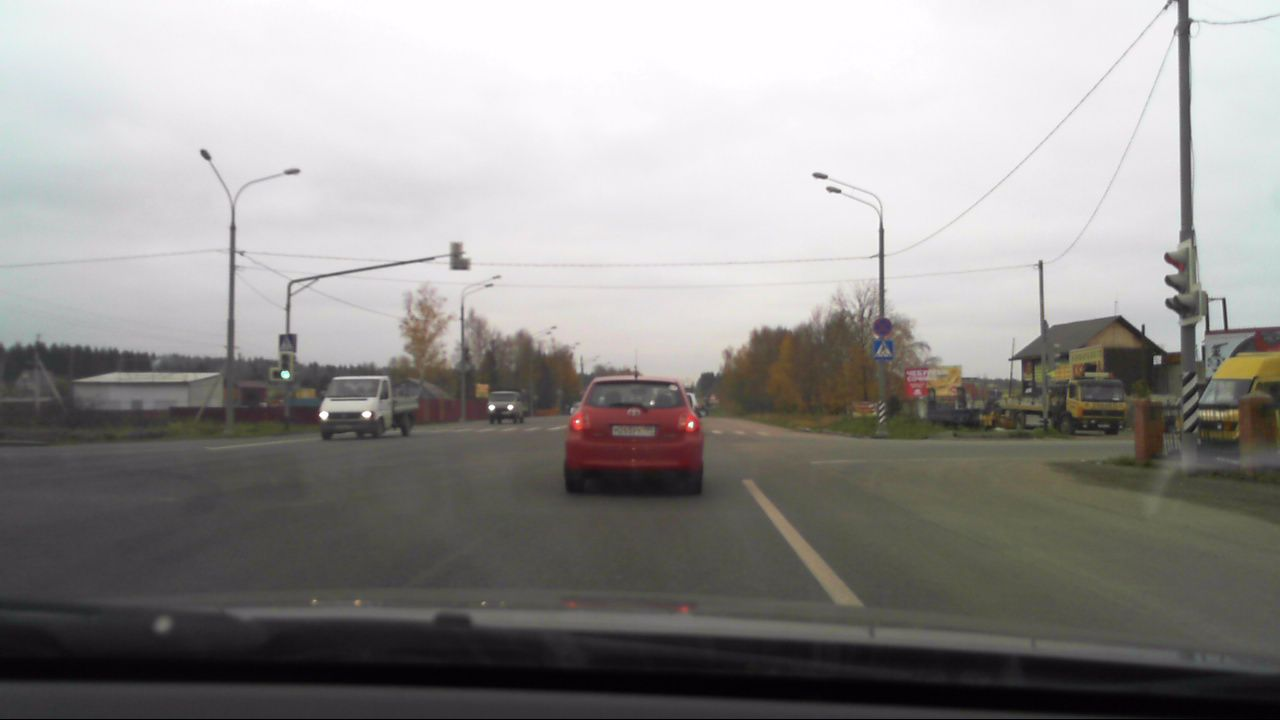No Parking: (872, 317, 893, 337)
